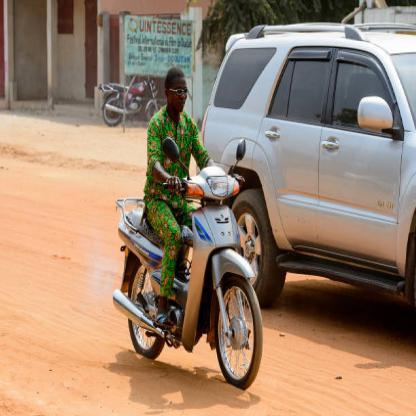Motorcycle: (109, 154, 273, 390)
